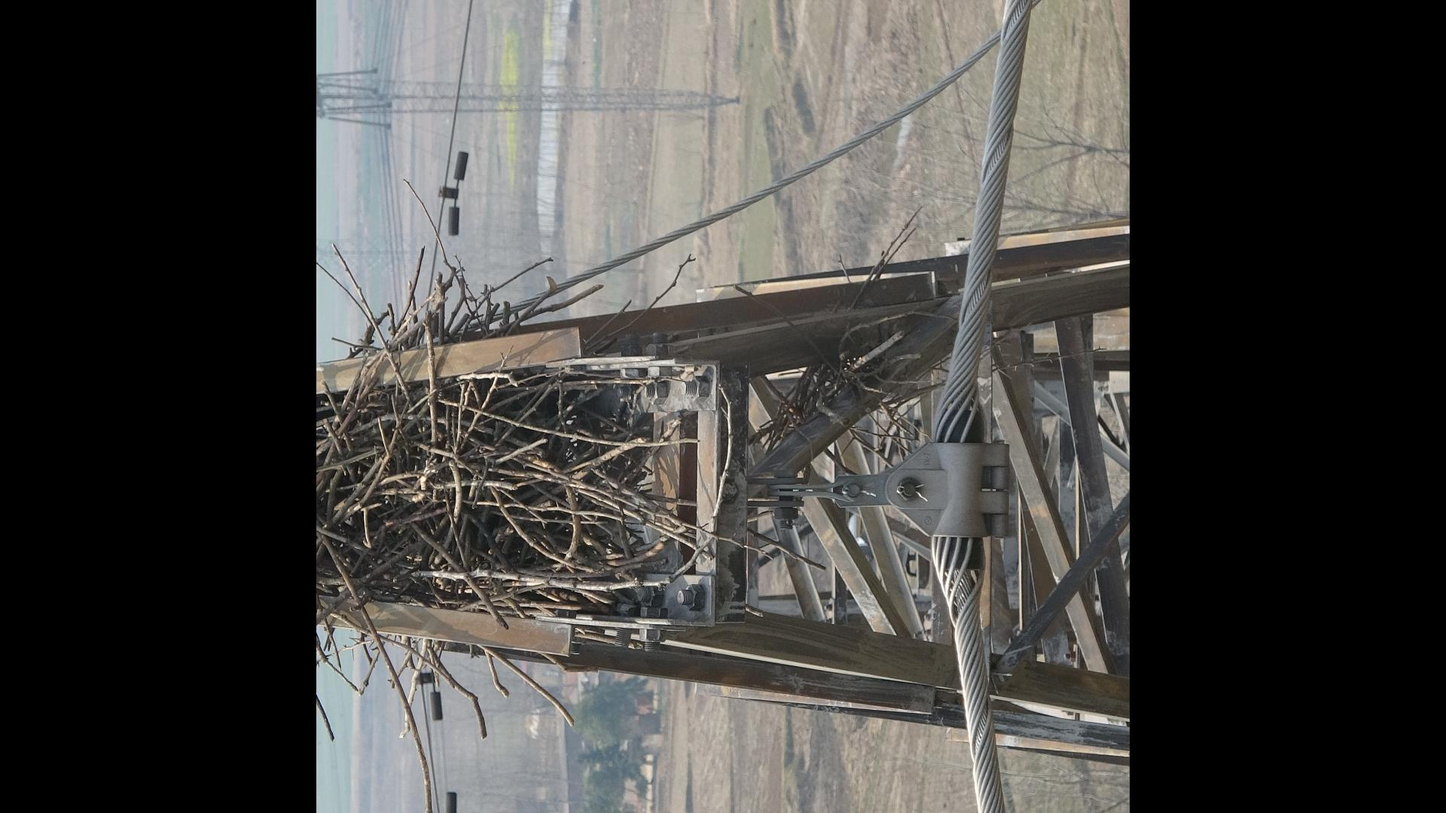damper: (435, 148, 472, 240)
nest: (315, 266, 696, 671), (760, 315, 929, 477)
